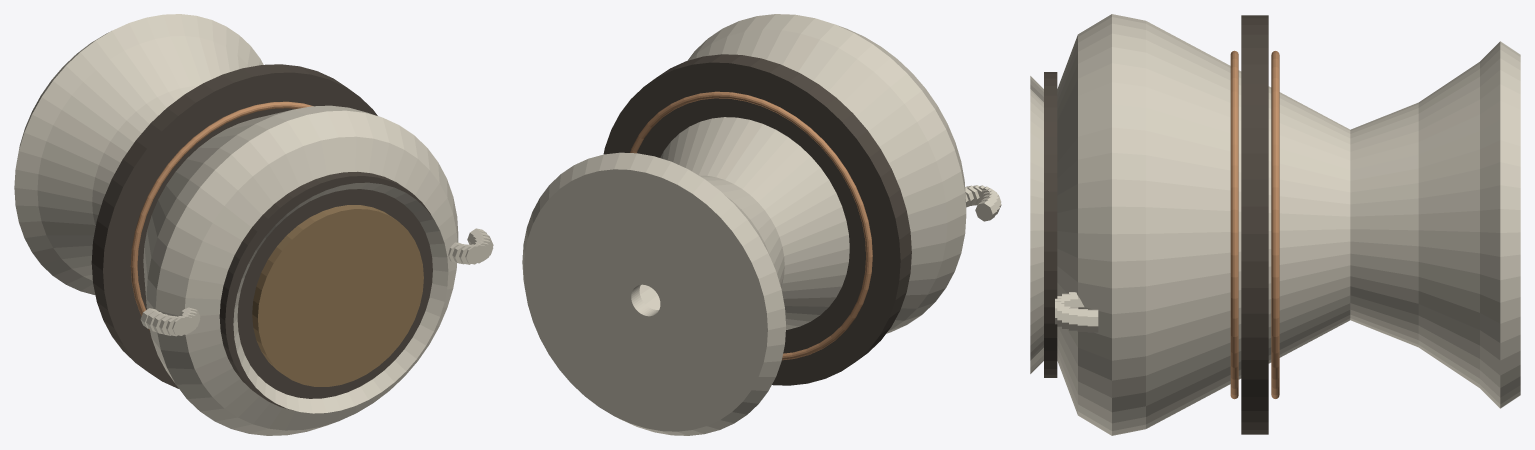
The model's file is pot_epic_1.glb.
3 views of the same model, side by side, from view 1: azimuth 30°, elevation 25°; view 2: azimuth 150°, elevation 25°; view 3: azimuth 270°, elevation 25° (orthographic). The views are drawn at different scales.
Visible parts, largest first — view 1: world; view 2: world; view 3: world.
Boxes of the visible parts, box(x1,y1,x2,y2) form: world: box(14, 14, 493, 435); world: box(522, 14, 1001, 435); world: box(1030, 14, 1520, 435).
Bounding box in the file's own units: 7.05 × 6.2 × 7.2.
